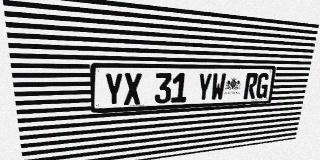1: (171, 73, 188, 103)
3: (154, 73, 172, 104)
G: (255, 73, 270, 99)
R: (243, 73, 258, 99)
W: (210, 73, 226, 101)
X: (124, 73, 142, 105)
Y: (104, 73, 123, 106), (196, 73, 212, 102)
